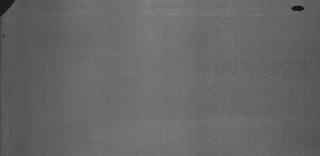punching hole: (290, 3, 306, 12)
